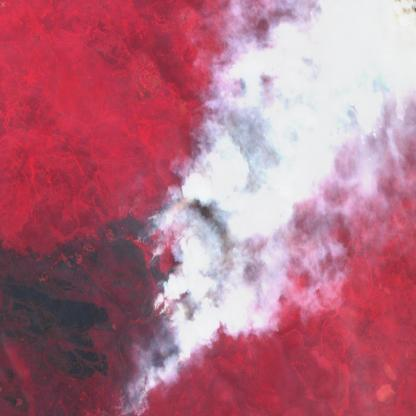fire: (113, 18, 412, 416)
